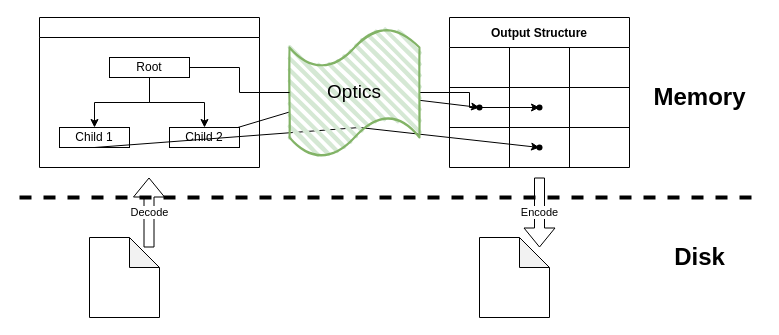
The diagram is 779 pixels wide and 335 high, and some of its shapes have lost their labels. The box of each missing label's shape, as (x1, y1, x2, y2) in pixels:
Format 1: (88, 236, 160, 318)
Format 2: (478, 236, 550, 318)
Input structure: (38, 16, 260, 168)
